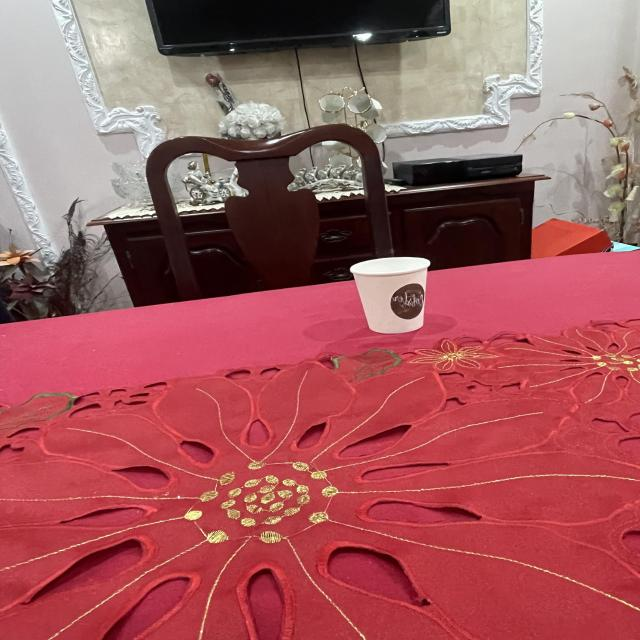small: (347, 251, 434, 339)
